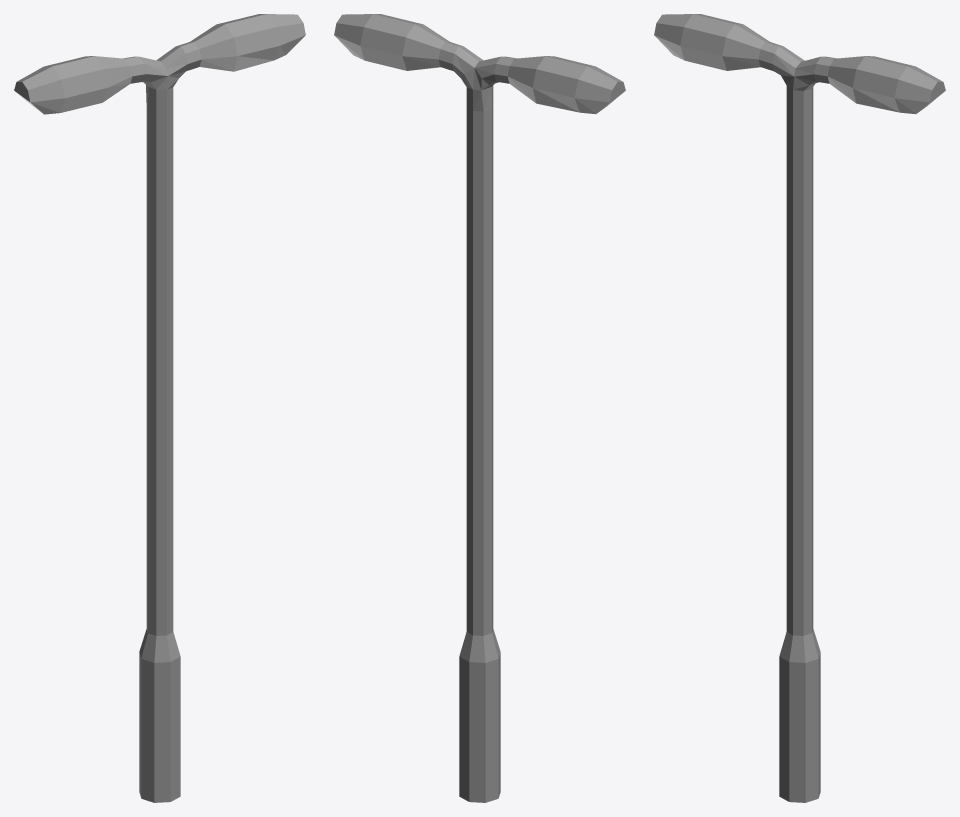
File: Street lamp_2 side.FBX
The picture shows the model from 3 angles, left to right: view 1: azimuth 30°, elevation 25°; view 2: azimuth 150°, elevation 25°; view 3: azimuth 330°, elevation 25°; orthographic projection.
Parts seen in each view (by area): view 1: street lamp 2 side; view 2: street lamp 2 side; view 3: street lamp 2 side.
Boxes of the visible parts, bbox=[...] form: street lamp 2 side: bbox=[14, 14, 305, 802]; street lamp 2 side: bbox=[334, 14, 625, 802]; street lamp 2 side: bbox=[654, 14, 945, 802].
Size of the model in its own units: 90.08 by 235 by 14.2.
